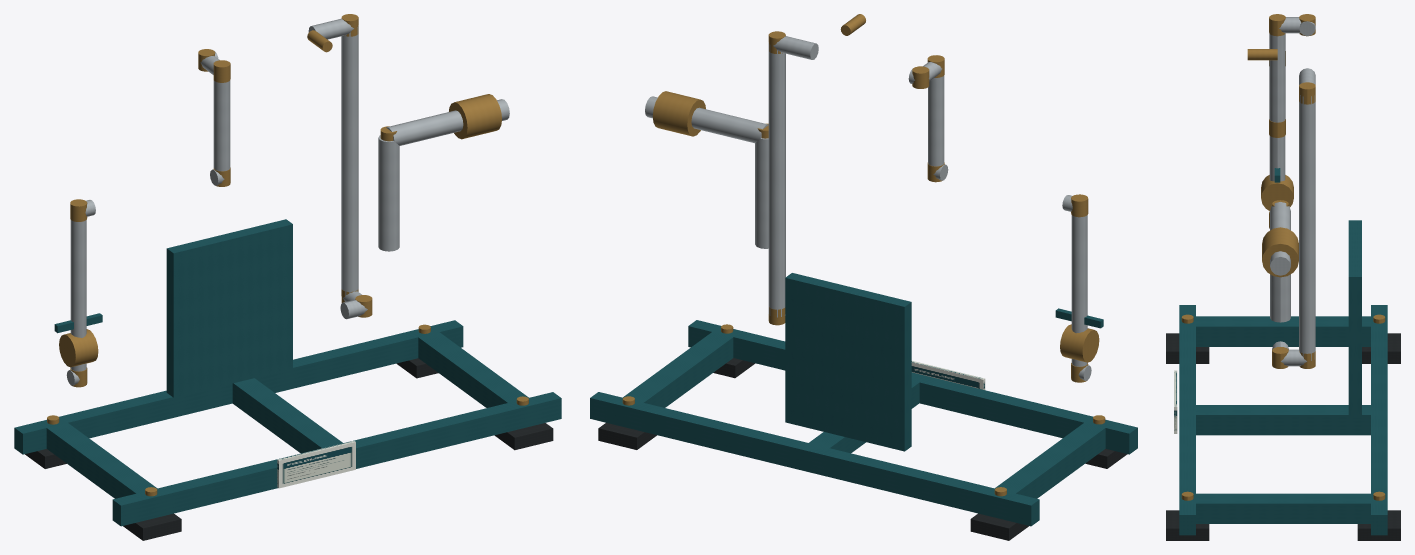
File: PZ_Fieldline_Skid_And_Plumbing_Module.glb
The picture shows the model from 3 angles, left to right: view 1: azimuth 30°, elevation 25°; view 2: azimuth 150°, elevation 25°; view 3: azimuth 270°, elevation 25°; orthographic projection. The views are drawn at different scales.
Visible parts, largest first — view 1: Skid_Manifold_Bracket, Skid_MainRail_Left, Skid_MainRail_Right, Carbon_to_Pump_Down, Skid_Crossmember_00, Skid_Crossmember_01, Skid_Crossmember_02, Pump_Discharge_Pipe, Skid_Maker_Plate, Feed_Pipe_Vertical, Pump_Discharge_Pipe_Out, Discharge_CheckValve (+4 smaller); view 2: Skid_Manifold_Bracket, Skid_MainRail_Right, Skid_MainRail_Left, Carbon_to_Pump_Down, Skid_Crossmember_02, Skid_Crossmember_00, Feed_Pipe_Vertical, Pump_Discharge_Pipe_Out, Discharge_CheckValve, Pump_Discharge_Pipe, Sediment_to_Carbon_Riser_Up, Inlet_BallValve_Body (+5 smaller); view 3: Skid_Crossmember_02, Skid_Crossmember_01, Skid_Crossmember_00, Carbon_to_Pump_Down, Skid_MainRail_Left, Skid_MainRail_Right, Skid_Manifold_Bracket, Sediment_to_Carbon_Riser_Up, Discharge_CheckValve, Pump_Discharge_Pipe, Pump_Discharge_Pipe_Out, Inlet_BallValve_Body (+11 smaller).
Boxes of the visible parts, left/top/right/bottom form: Skid_Manifold_Bracket: left=166, top=219, right=292, bottom=397; Skid_MainRail_Left: left=112, top=392, right=561, bottom=526; Skid_MainRail_Right: left=14, top=320, right=463, bottom=454; Carbon_to_Pump_Down: left=341, top=25, right=358, bottom=295; Skid_Crossmember_00: left=46, top=423, right=157, bottom=498; Skid_Crossmember_01: left=232, top=378, right=342, bottom=453; Skid_Crossmember_02: left=418, top=329, right=528, bottom=407; Pump_Discharge_Pipe: left=378, top=135, right=399, bottom=251; Skid_Maker_Plate: left=277, top=441, right=355, bottom=488; Feed_Pipe_Vertical: left=70, top=220, right=86, bottom=371; Pump_Discharge_Pipe_Out: left=386, top=99, right=509, bottom=145; Discharge_CheckValve: left=449, top=94, right=501, bottom=139; Skid_Manifold_Bracket: left=785, top=273, right=911, bottom=451; Skid_MainRail_Right: left=590, top=392, right=1039, bottom=526; Skid_MainRail_Left: left=688, top=320, right=1137, bottom=454; Carbon_to_Pump_Down: left=768, top=43, right=785, bottom=317; Skid_Crossmember_02: left=620, top=329, right=737, bottom=407; Skid_Crossmember_00: left=990, top=419, right=1105, bottom=498; Feed_Pipe_Vertical: left=1071, top=215, right=1087, bottom=366; Pump_Discharge_Pipe_Out: left=645, top=96, right=768, bottom=143; Discharge_CheckValve: left=652, top=91, right=705, bottom=136; Pump_Discharge_Pipe: left=755, top=138, right=768, bottom=248; Sediment_to_Carbon_Riser_Up: left=928, top=75, right=944, bottom=166; Inlet_BallValve_Body: left=1060, top=324, right=1099, bottom=362; Skid_Crossmember_02: left=1194, top=493, right=1372, bottom=523; Skid_Crossmember_01: left=1196, top=405, right=1370, bottom=435; Skid_Crossmember_00: left=1187, top=316, right=1378, bottom=346; Carbon_to_Pump_Down: left=1299, top=95, right=1315, bottom=360; Skid_MainRail_Left: left=1179, top=305, right=1195, bottom=535; Skid_MainRail_Right: left=1371, top=305, right=1387, bottom=535; Skid_Manifold_Bracket: left=1348, top=220, right=1361, bottom=418; Sediment_to_Carbon_Riser_Up: left=1269, top=34, right=1285, bottom=122; Discharge_CheckValve: left=1262, top=227, right=1298, bottom=277; Pump_Discharge_Pipe: left=1270, top=274, right=1290, bottom=322; Pump_Discharge_Pipe_Out: left=1270, top=202, right=1290, bottom=275; Inlet_BallValve_Body: left=1261, top=175, right=1293, bottom=210.
Size of the model in its own units: 1.71 by 1.49 by 0.785.
Materials: 5 (5 with a texture image).
